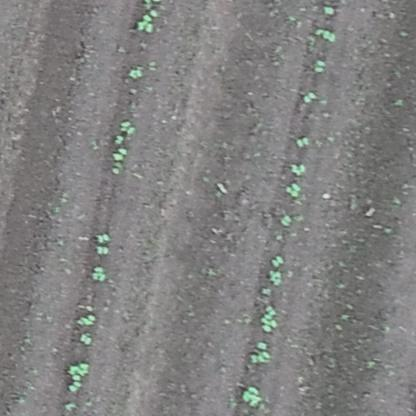vc: (65, 359, 92, 392), (257, 306, 281, 333), (310, 58, 335, 80), (249, 341, 271, 365), (71, 308, 101, 325), (241, 383, 263, 406), (111, 149, 127, 177), (315, 29, 340, 46), (136, 14, 154, 35), (301, 89, 321, 106), (289, 161, 309, 177), (94, 263, 106, 288), (267, 251, 287, 266), (286, 182, 301, 201), (294, 134, 312, 149), (119, 120, 139, 132), (128, 66, 143, 81), (270, 270, 282, 286), (79, 332, 94, 344), (97, 232, 111, 244), (322, 6, 337, 17), (280, 215, 293, 227), (95, 246, 109, 255), (115, 135, 124, 143)
